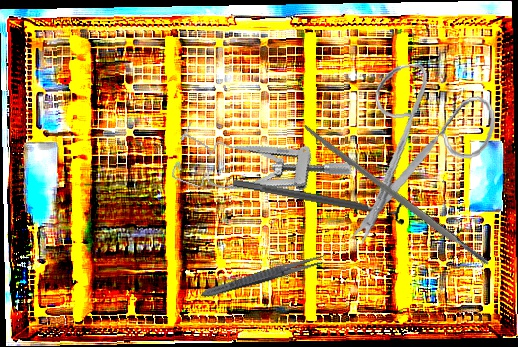Dressing Forceps: (198, 250, 331, 302)
Fixation Ring: (230, 169, 409, 226)
Iris Scissors: (326, 54, 511, 249)
Scalpel Handle: (300, 122, 492, 270)
Speculum: (165, 105, 356, 235)
